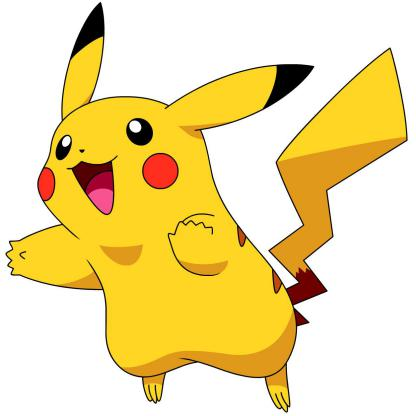Pikachu: (1, 1, 413, 416)
